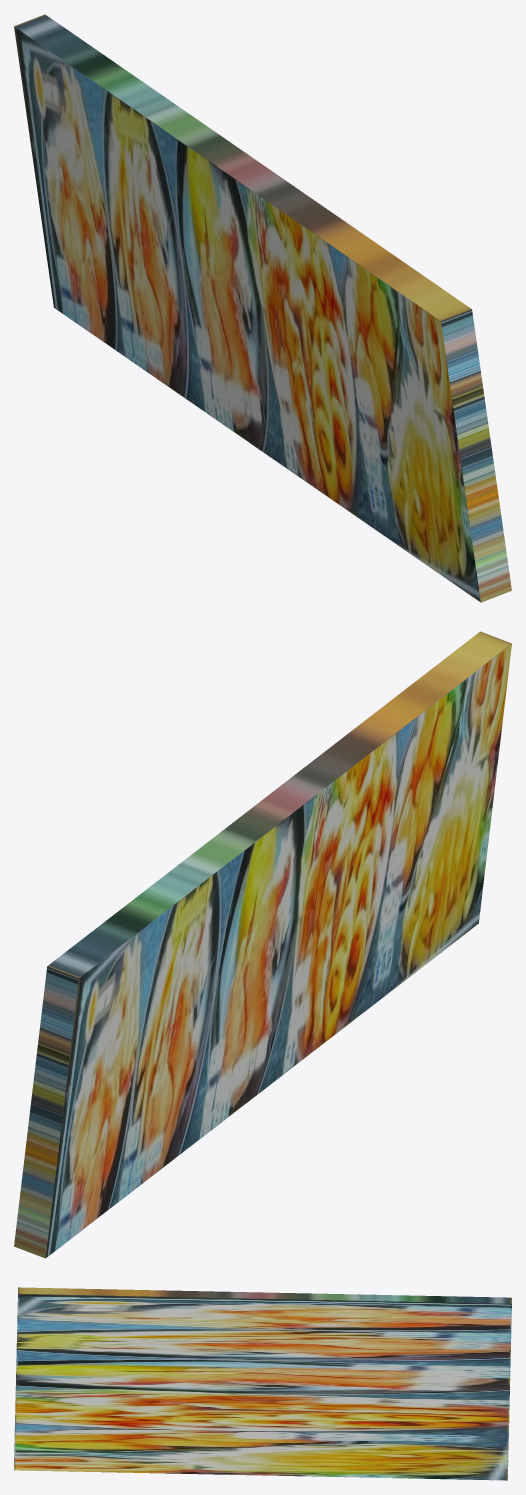
The model's file is arena_hawker_centre_food_sign_2.dae.
3 renders of one model, top to bottom at view 1: azimuth 30°, elevation 25°; view 2: azimuth 150°, elevation 25°; view 3: azimuth 270°, elevation 25°, orthographic. The views are drawn at different scales.
Parts seen in each view (by area): view 1: Plane.020; view 2: Plane.020; view 3: Plane.020.
Boxes of the visible parts, left/top/right/bottom form: Plane.020: left=14, top=14, right=511, bottom=602; Plane.020: left=14, top=631, right=511, bottom=1258; Plane.020: left=14, top=1287, right=511, bottom=1480.
Size of the model in its own units: 0.146 by 1.61 by 0.6399.
